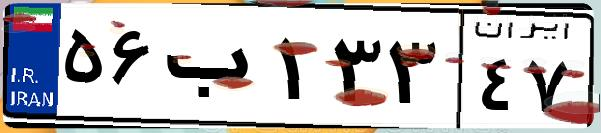1: (270, 28, 330, 110)
3: (385, 28, 445, 110), (330, 28, 385, 110)
4: (475, 38, 525, 113)
5: (57, 26, 110, 100)
6: (110, 28, 158, 98)
7: (525, 38, 570, 115)
ب: (158, 20, 270, 120)
